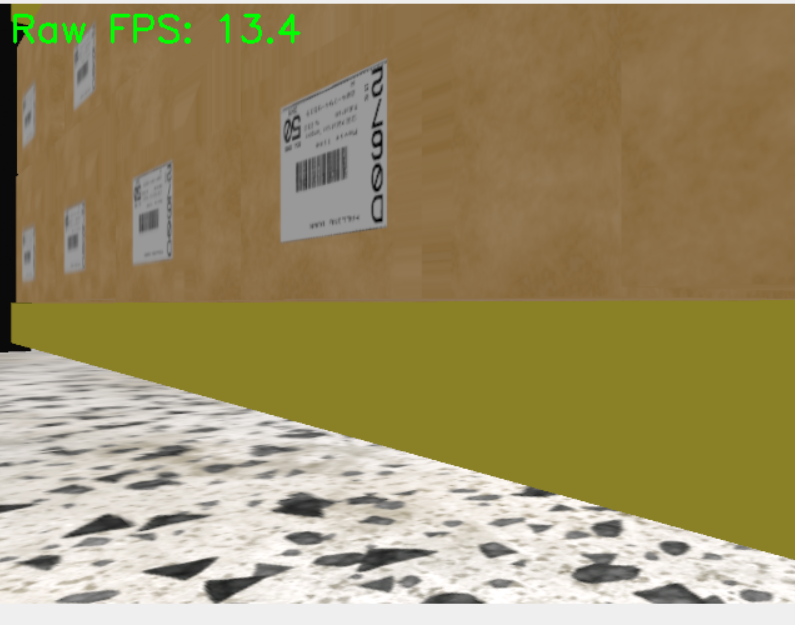barcode: (278, 57, 397, 243), (130, 162, 174, 263), (63, 204, 87, 275), (22, 87, 36, 148), (22, 227, 35, 283)
